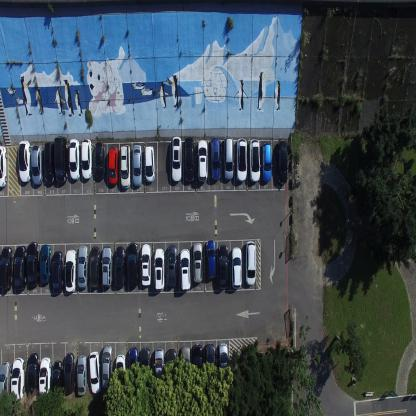car: (10, 356, 25, 401), (54, 136, 68, 184), (114, 353, 127, 402), (276, 136, 288, 186), (26, 241, 39, 287), (0, 245, 13, 291), (248, 137, 261, 182), (38, 243, 52, 284), (153, 347, 166, 391), (88, 350, 101, 394), (38, 356, 51, 400), (18, 139, 31, 183), (244, 240, 256, 287), (14, 244, 26, 291), (101, 342, 113, 389), (0, 358, 11, 409), (63, 351, 76, 394), (50, 360, 62, 406), (26, 352, 38, 398), (222, 136, 234, 181), (235, 137, 247, 182), (216, 245, 228, 290), (51, 249, 63, 294), (119, 144, 131, 189), (171, 135, 182, 183), (209, 137, 221, 181), (217, 343, 229, 387), (139, 346, 151, 390), (127, 241, 138, 288), (204, 341, 215, 388), (127, 345, 138, 392), (114, 245, 126, 288), (81, 138, 93, 181), (78, 243, 89, 289), (166, 348, 178, 390), (65, 248, 76, 293), (197, 138, 208, 182), (166, 244, 177, 288), (140, 242, 151, 286), (101, 244, 112, 288), (191, 342, 202, 386), (93, 140, 105, 180), (69, 138, 80, 181), (44, 141, 55, 184), (184, 134, 194, 181), (261, 142, 272, 184), (154, 247, 164, 293), (231, 247, 242, 288), (180, 246, 190, 291), (205, 240, 216, 280), (90, 245, 100, 289), (132, 142, 142, 186), (31, 146, 42, 186), (77, 353, 87, 396), (192, 242, 202, 284), (108, 145, 118, 187), (180, 345, 190, 385), (145, 145, 155, 183), (0, 146, 8, 190)
